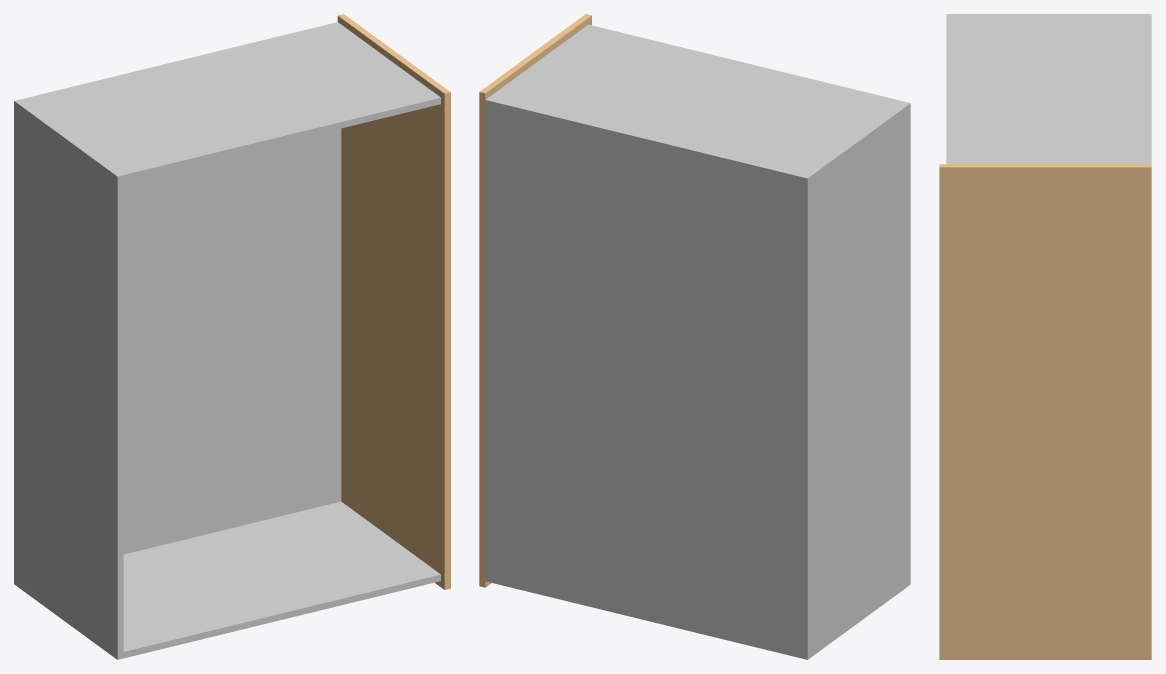
Rendered from CUPBOARD-BODYSET7_link_mesh.dae.
3 views of the same model, side by side, from view 1: azimuth 30°, elevation 25°; view 2: azimuth 150°, elevation 25°; view 3: azimuth 270°, elevation 25° (orthographic).
Visible parts, largest first — view 1: CUPBOARD-BODYSET7_link (×2); view 2: CUPBOARD-BODYSET7_link (×2); view 3: CUPBOARD-BODYSET7_link (×2).
Boxes of the visible parts, <box> form: CUPBOARD-BODYSET7_link (×2): <box>14,14,450,659</box>; CUPBOARD-BODYSET7_link (×2): <box>479,14,910,659</box>; CUPBOARD-BODYSET7_link (×2): <box>939,14,1151,659</box>.
Bounding box in the file's own units: 0.534 × 0.768 × 0.3.
